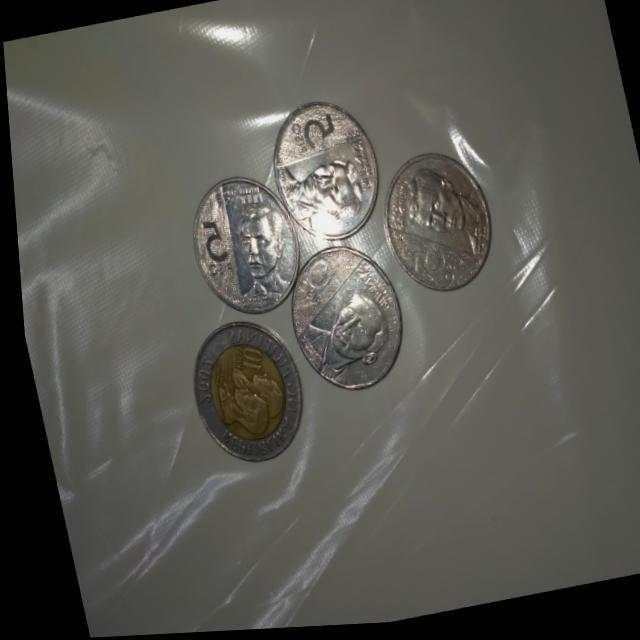10_New_Front: (278, 247, 397, 391)
10_Old_Front: (180, 327, 296, 457)
5_New_Front: (185, 185, 292, 318), (264, 101, 372, 227)
